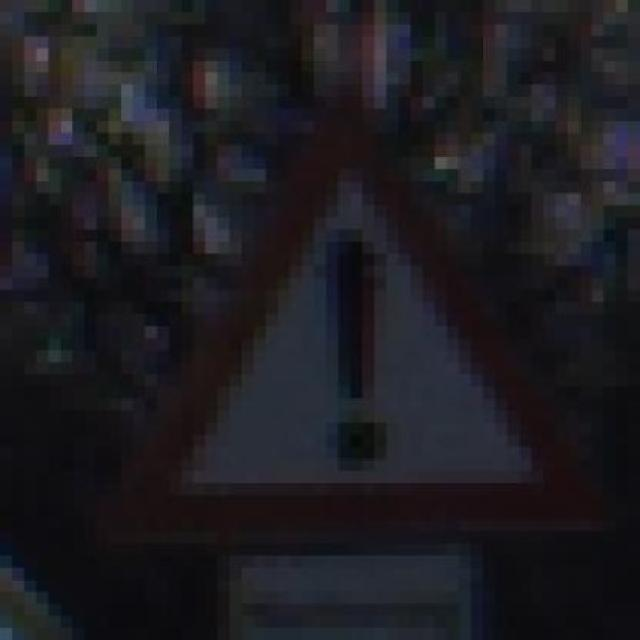Attention Please-: (49, 72, 616, 580)
